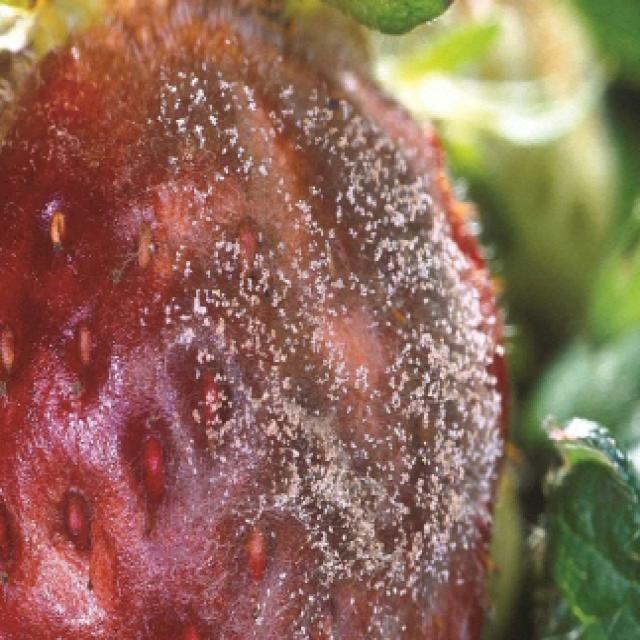Gray Mold: (0, 0, 516, 640)
